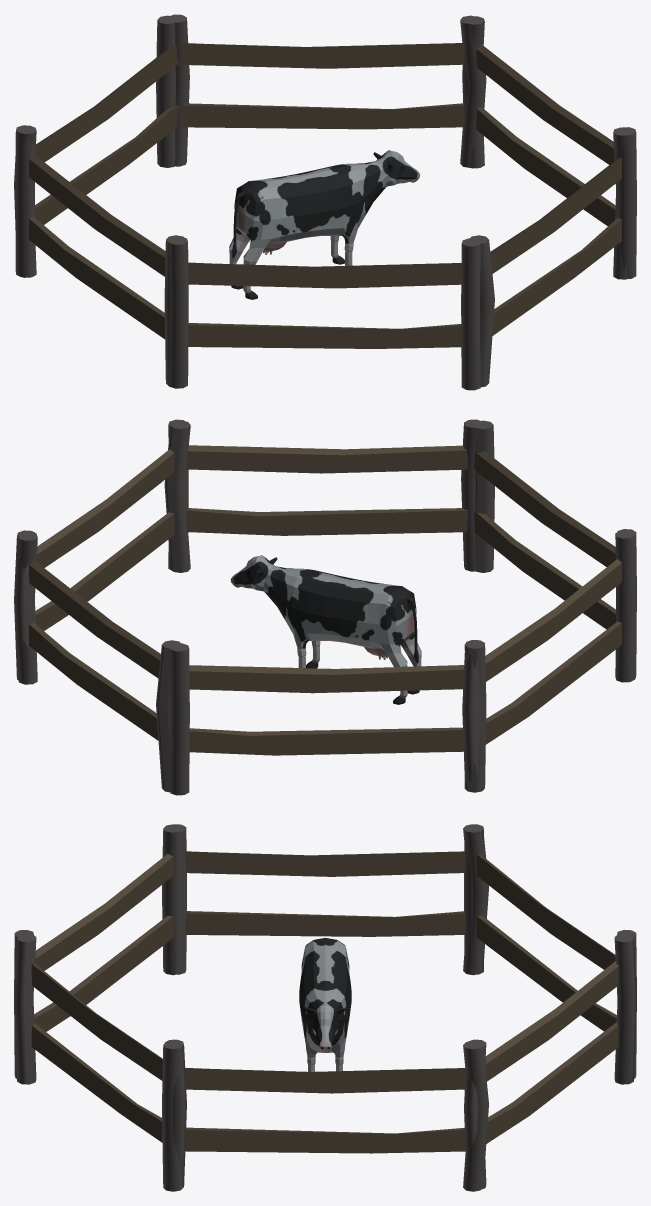
3 renders of one model, top to bottom at view 1: azimuth 30°, elevation 25°; view 2: azimuth 150°, elevation 25°; view 3: azimuth 270°, elevation 25°, orthographic.
Parts seen in each view (by area): view 1: buffer-0-mesh-0_0 (×6), buffer-0-mesh-0_1 (×6), node-0; view 2: buffer-0-mesh-0_0 (×6), buffer-0-mesh-0_1 (×6), node-0; view 3: buffer-0-mesh-0_0 (×6), buffer-0-mesh-0_1 (×6), node-0.
Boxes of the visible parts, x1,y1,x2,y2 form: buffer-0-mesh-0_0 (×6): [29, 43, 621, 348]; buffer-0-mesh-0_1 (×6): [14, 14, 636, 390]; node-0: [229, 150, 420, 299]; buffer-0-mesh-0_0 (×6): [29, 445, 621, 755]; buffer-0-mesh-0_1 (×6): [14, 419, 636, 795]; node-0: [230, 555, 421, 704]; buffer-0-mesh-0_0 (×6): [31, 851, 618, 1153]; buffer-0-mesh-0_1 (×6): [14, 824, 636, 1191]; node-0: [299, 938, 351, 1071].
Bounding box in the file's own units: 17.13 × 5.03 × 19.94.
3 materials, 1 textured.
